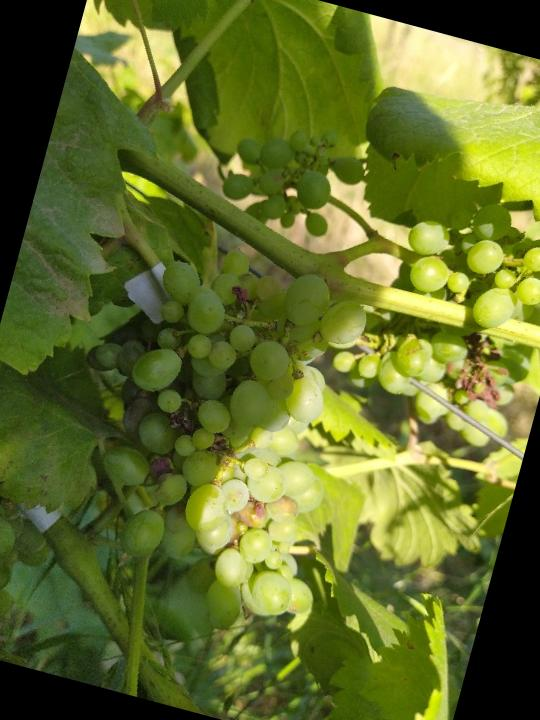grape: (23, 213, 399, 655), (318, 166, 540, 461), (210, 104, 376, 248)
